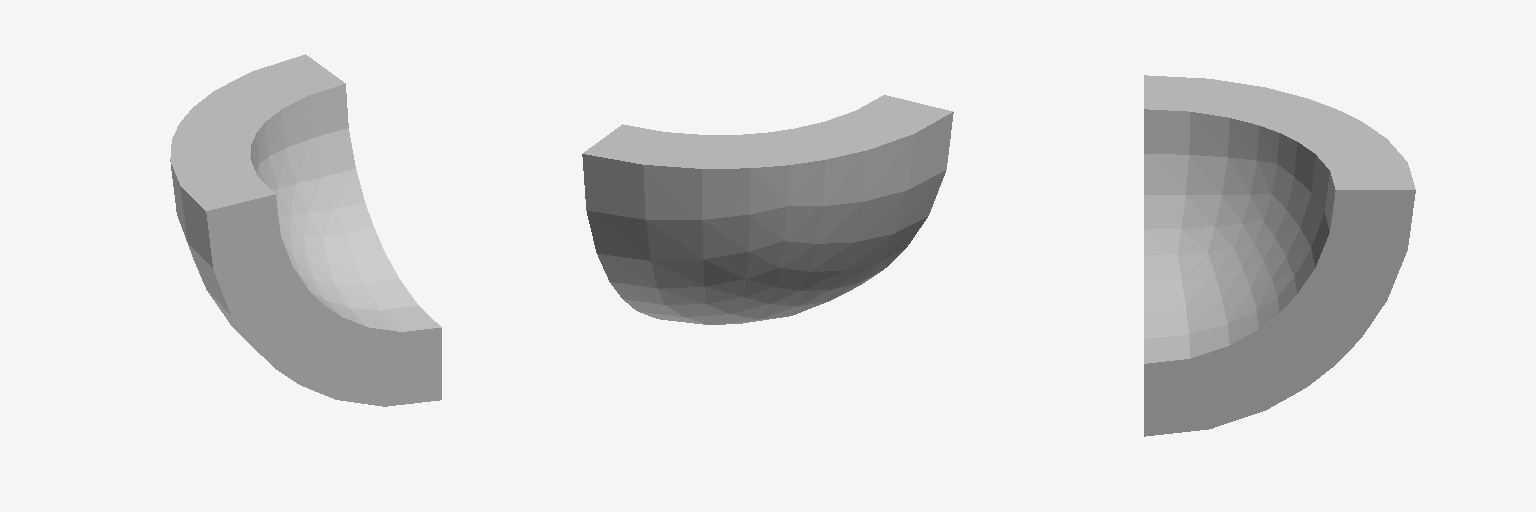
File: obj_planet_piece_5.obj
3 views of the same model, side by side, from view 1: azimuth 30°, elevation 25°; view 2: azimuth 150°, elevation 25°; view 3: azimuth 270°, elevation 25° (orthographic).
Visible parts, largest first — view 1: Cube.016_Cube.031; view 2: Cube.016_Cube.031; view 3: Cube.016_Cube.031.
Part boxes in pixels (bbox=[...]): Cube.016_Cube.031: bbox=[170, 54, 441, 406]; Cube.016_Cube.031: bbox=[582, 95, 953, 324]; Cube.016_Cube.031: bbox=[1144, 75, 1415, 436].
Bounding box in the file's own units: 1.24 × 1.24 × 1.24.